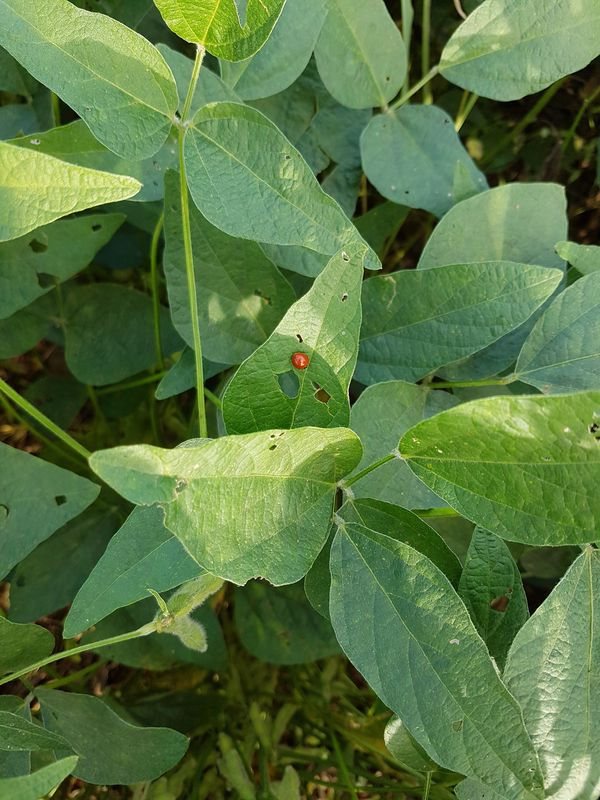Coccinellidae: (283, 345, 315, 375)
